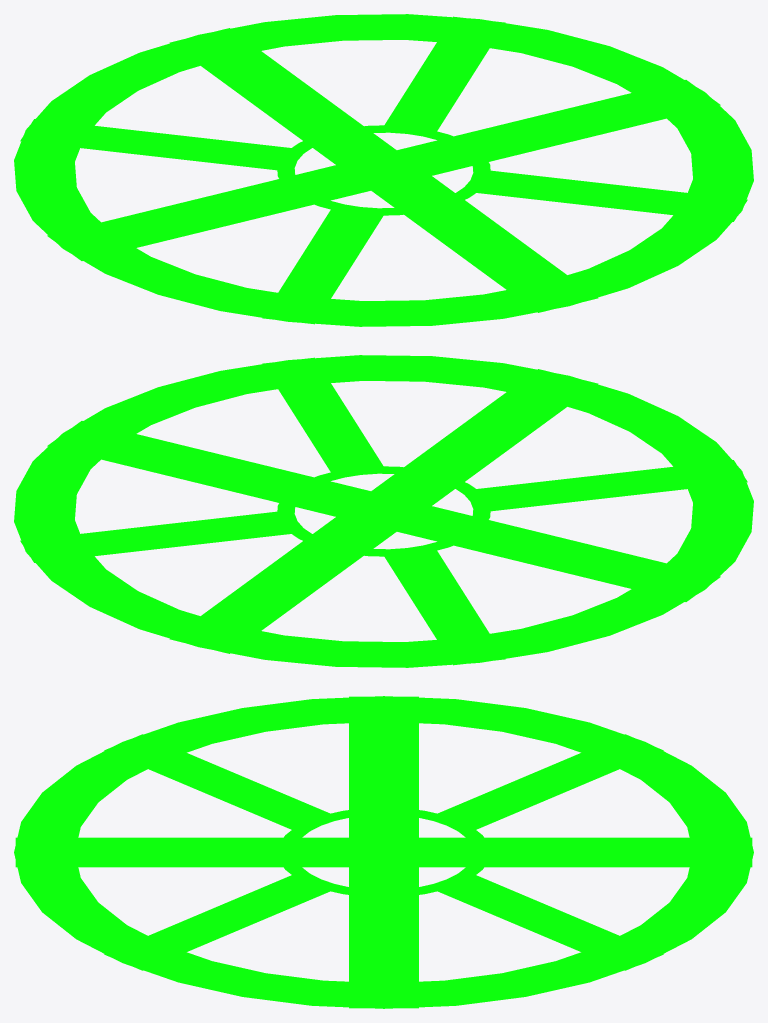
File: rune.glb
3 renders of one model, top to bottom at view 1: azimuth 30°, elevation 25°; view 2: azimuth 150°, elevation 25°; view 3: azimuth 270°, elevation 25°, orthographic.
Visible parts, largest first — view 1: Circle.001, Plane, Plane.001, Plane.004, Plane.002, Plane.003, Plane.005, Circle; view 2: Circle.001, Plane, Plane.001, Plane.005, Plane.003, Plane.004, Plane.002, Circle; view 3: Circle.001, Plane, Plane.001, Plane.003, Plane.005, Plane.002, Plane.004, Circle.
Boxes of the visible parts, bbox=[...] form: Circle.001: bbox=[14, 14, 753, 326]; Plane: bbox=[169, 28, 598, 312]; Plane.001: bbox=[47, 80, 720, 260]; Plane.004: bbox=[384, 16, 505, 132]; Plane.002: bbox=[262, 209, 383, 324]; Plane.003: bbox=[477, 170, 747, 221]; Plane.005: bbox=[20, 119, 292, 170]; Circle: bbox=[277, 125, 490, 215]; Circle.001: bbox=[14, 355, 753, 667]; Plane: bbox=[169, 369, 598, 653]; Plane.001: bbox=[47, 421, 720, 601]; Plane.005: bbox=[384, 550, 505, 665]; Plane.003: bbox=[262, 357, 383, 473]; Plane.004: bbox=[20, 511, 293, 562]; Plane.002: bbox=[475, 460, 747, 511]; Circle: bbox=[277, 466, 490, 556]; Circle.001: bbox=[14, 696, 753, 1008]; Plane: bbox=[15, 837, 752, 867]; Plane.001: bbox=[349, 696, 418, 1008]; Plane.003: bbox=[104, 874, 331, 970]; Plane.005: bbox=[438, 734, 663, 829]; Plane.002: bbox=[104, 734, 330, 829]; Plane.004: bbox=[436, 875, 663, 970]; Circle: bbox=[277, 807, 490, 896].
Bounding box in the file's own units: 0.8923 × 0 × 0.8923.
